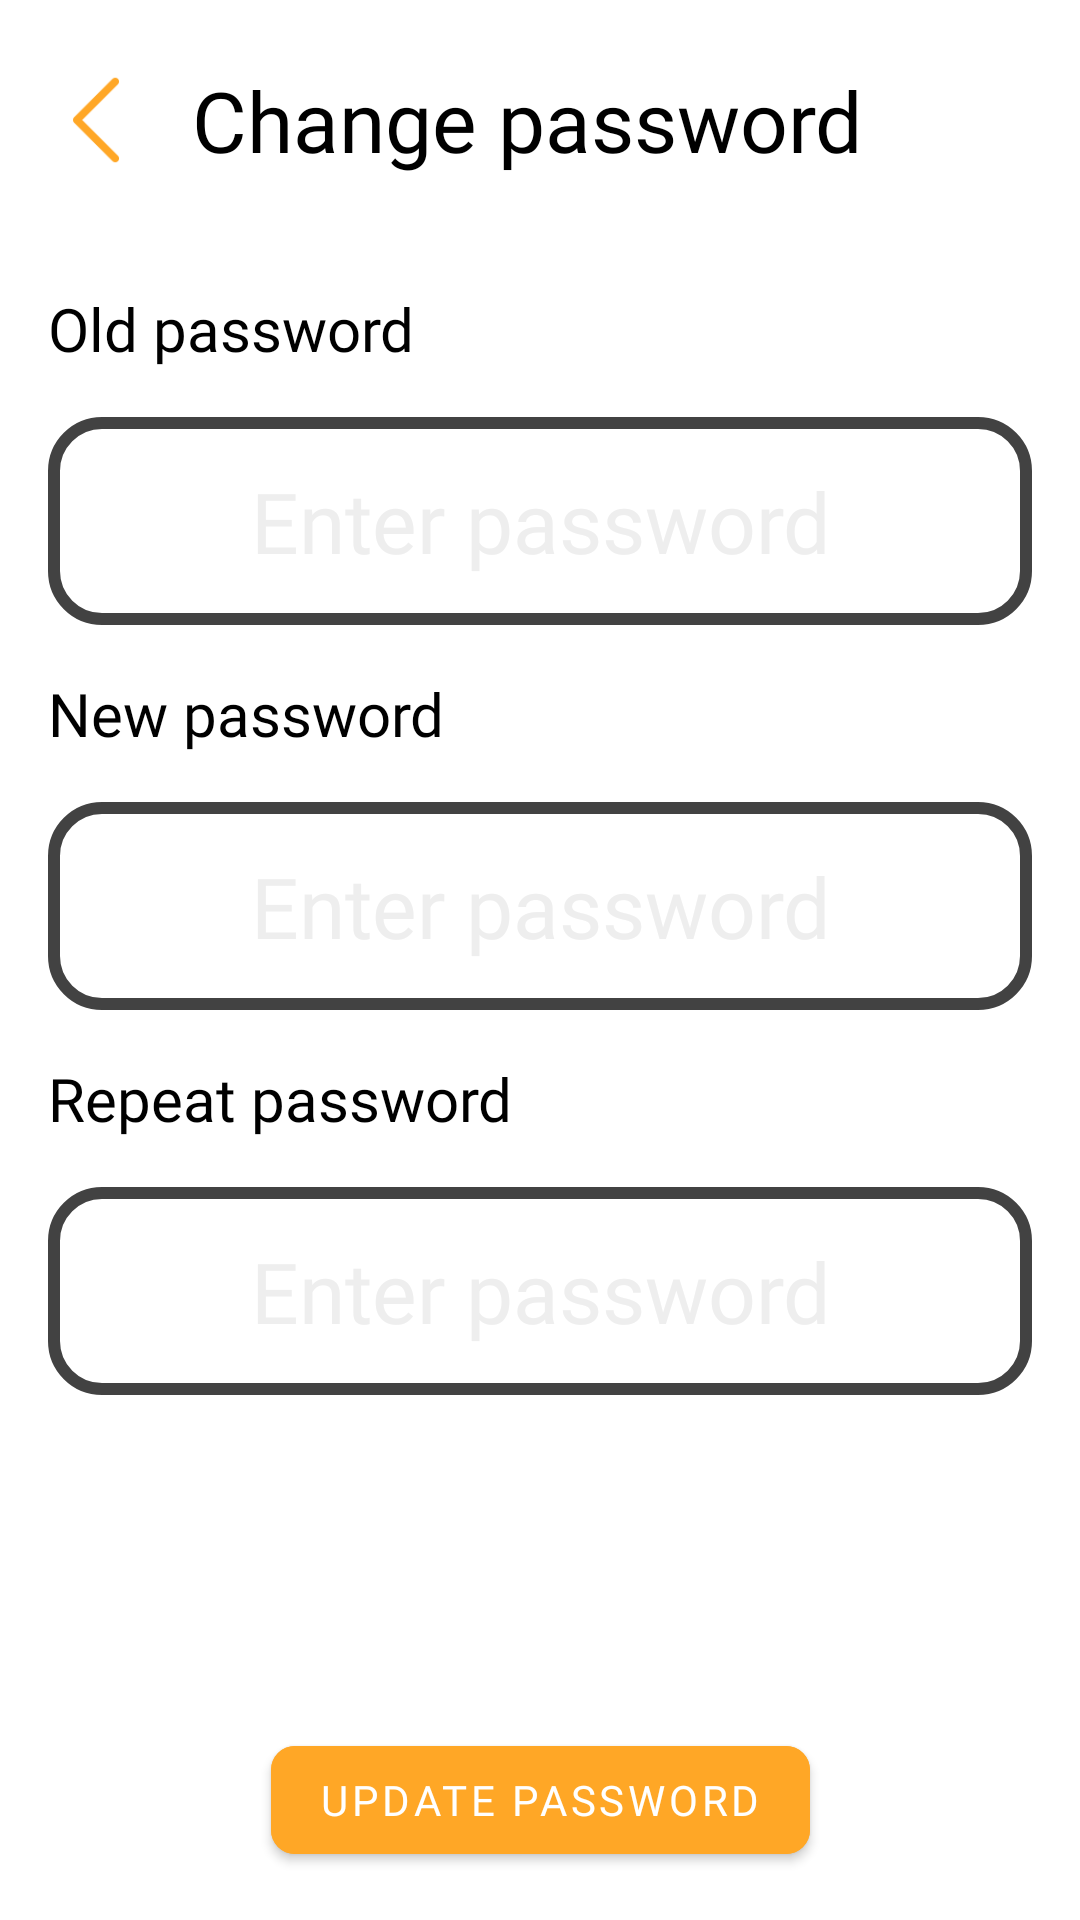

Where icons sit on this 1080×1920 app screen, as (x1, y1, x2, y2):
back button: (73, 77, 119, 163)
